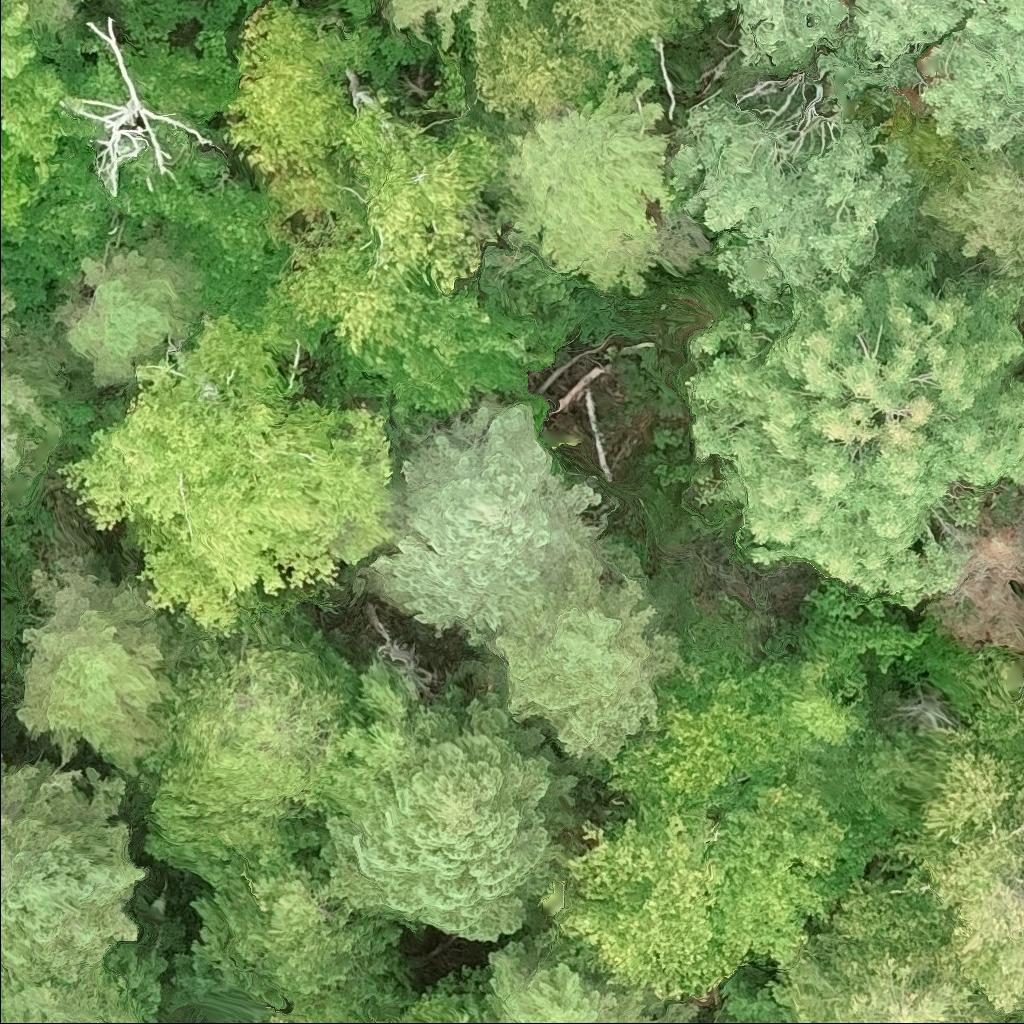crown: (686, 253, 1023, 607), (61, 318, 403, 634), (525, 779, 862, 1000), (322, 694, 577, 941), (671, 65, 909, 303), (371, 399, 591, 648), (152, 638, 367, 886), (280, 104, 491, 354), (705, 0, 1023, 149), (490, 535, 680, 772), (607, 663, 865, 827), (21, 563, 204, 780), (507, 65, 673, 295), (340, 274, 577, 421), (193, 859, 411, 1018), (0, 767, 146, 1000), (34, 126, 274, 266), (898, 739, 1023, 1007), (64, 10, 219, 200), (307, 660, 462, 823), (0, 6, 102, 247), (228, 4, 368, 169), (62, 243, 199, 394), (471, 9, 614, 133), (118, 0, 246, 136), (782, 951, 1016, 1023), (491, 947, 696, 1023), (811, 879, 958, 980), (921, 518, 1023, 651), (0, 294, 61, 512), (546, 0, 717, 75), (925, 146, 1023, 269), (0, 949, 157, 1023), (389, 0, 497, 51), (448, 1008, 492, 1023), (1009, 688, 1023, 733), (275, 1017, 311, 1023), (515, 0, 533, 5)
